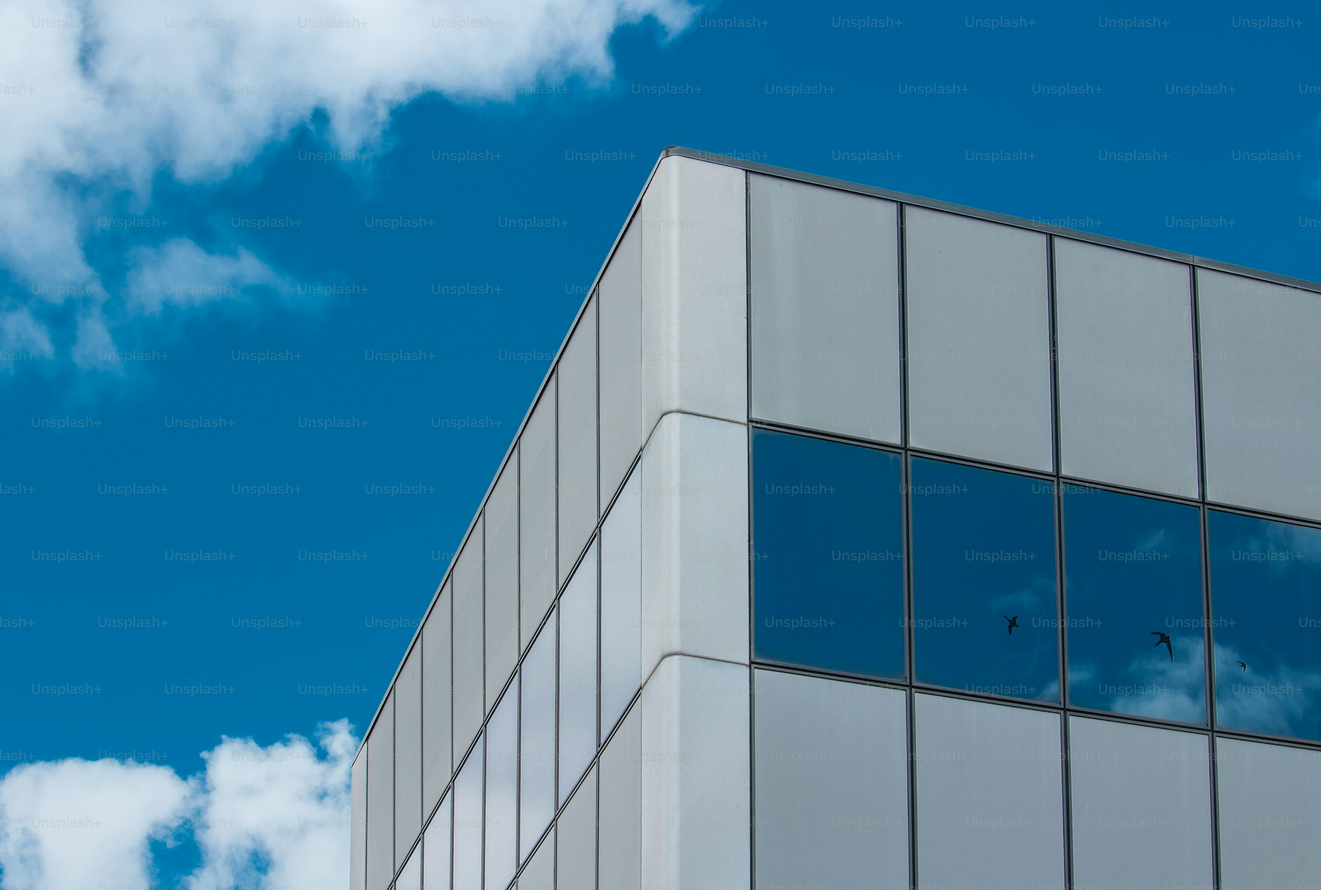glass panel: (752, 430, 904, 678), (911, 459, 1059, 701), (1063, 485, 1204, 723), (1208, 511, 1321, 739)
